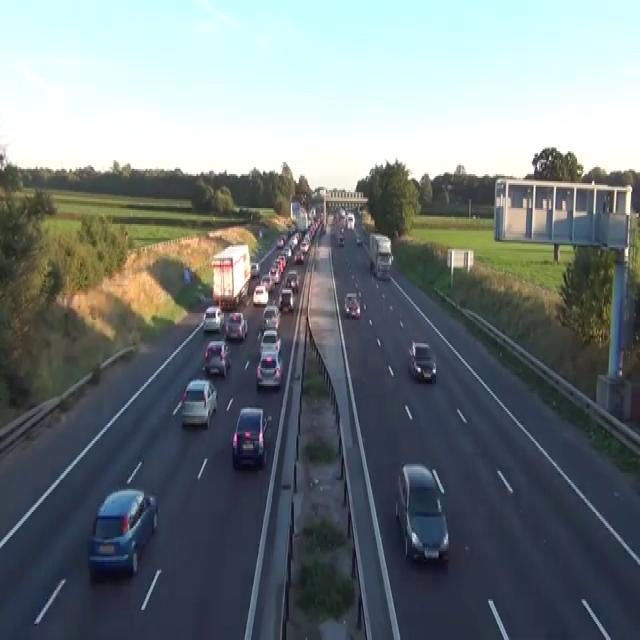Car: (87, 487, 158, 578), (395, 462, 449, 564), (232, 406, 272, 468), (180, 378, 217, 428), (408, 340, 436, 382), (203, 339, 230, 377), (256, 350, 283, 388), (225, 311, 247, 341), (202, 304, 224, 332), (259, 329, 281, 355), (262, 304, 280, 329), (375, 251, 392, 277), (344, 292, 360, 318), (278, 288, 294, 311), (252, 284, 268, 306), (285, 270, 299, 292), (260, 274, 274, 293), (268, 265, 280, 284), (275, 252, 286, 270), (350, 300, 360, 318), (250, 262, 260, 278), (183, 266, 191, 284), (293, 251, 304, 263), (277, 252, 287, 265), (289, 234, 297, 250), (300, 238, 309, 252), (282, 245, 291, 258), (338, 226, 344, 245), (276, 237, 284, 247), (339, 206, 345, 219), (355, 234, 362, 243), (338, 235, 344, 245), (389, 253, 394, 263), (321, 224, 326, 233), (339, 226, 344, 234), (258, 228, 262, 238), (399, 318, 403, 327)
Truck: (211, 242, 251, 309), (368, 231, 392, 277)
